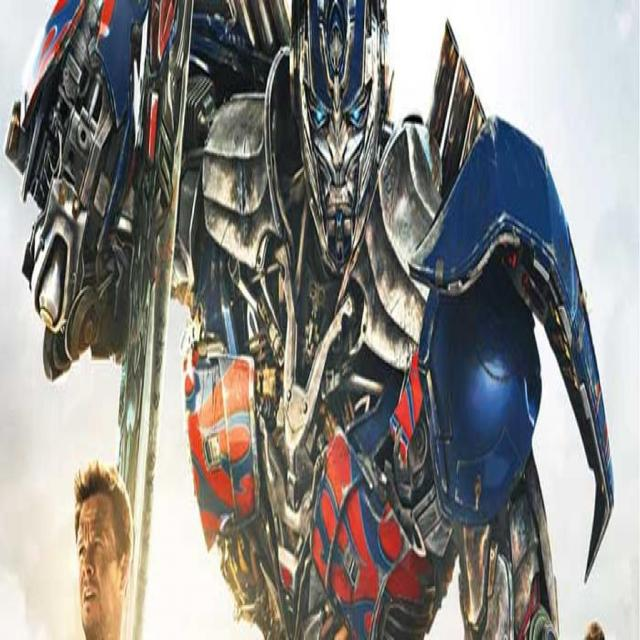nomask: (74, 504, 112, 627)
